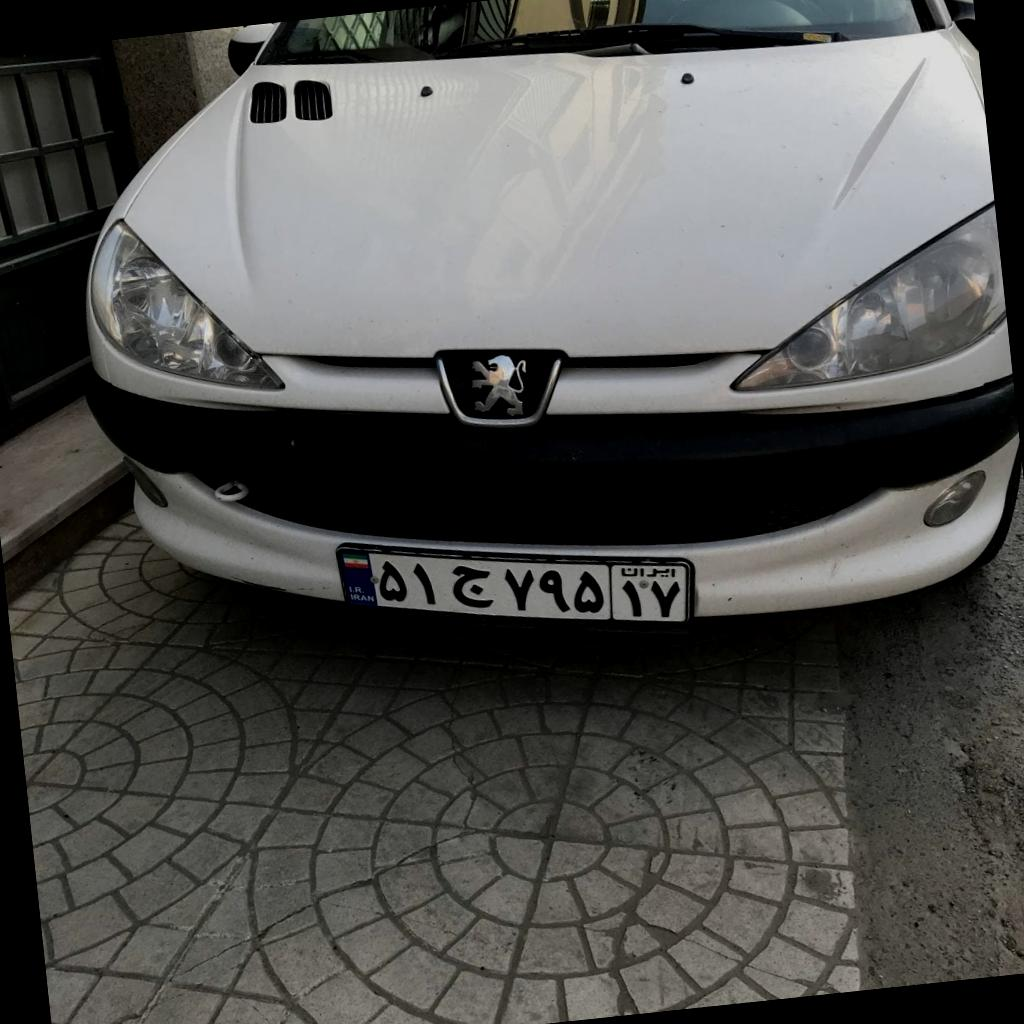Plates: (336, 547, 687, 621)
